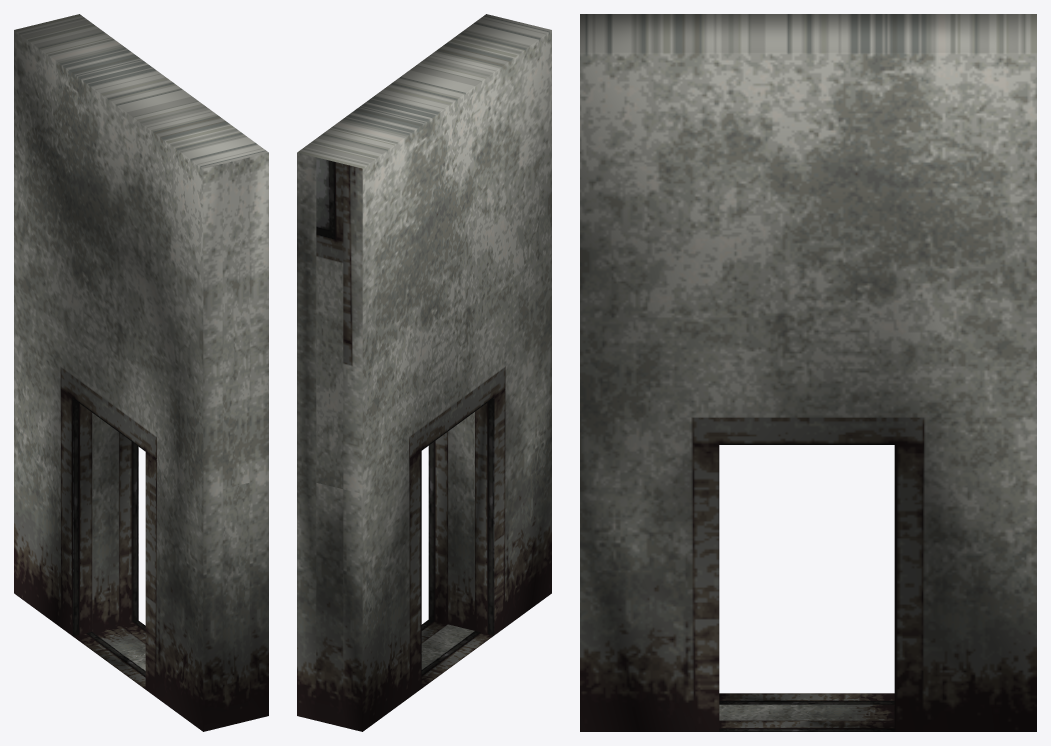
Rendered from SM_EC_ConcreteTunnel_DoorWay_2.fbx.
3 views of the same model, side by side, from view 1: azimuth 30°, elevation 25°; view 2: azimuth 150°, elevation 25°; view 3: azimuth 270°, elevation 25° (orthographic). The views are drawn at different scales.
Parts seen in each view (by area): view 1: SM_EC_ConcreteTunnel_DoorWay_2; view 2: SM_EC_ConcreteTunnel_DoorWay_2; view 3: SM_EC_ConcreteTunnel_DoorWay_2.
Part boxes in pixels (x1,y1,x2,y2): SM_EC_ConcreteTunnel_DoorWay_2: (14, 14, 268, 731); SM_EC_ConcreteTunnel_DoorWay_2: (297, 14, 551, 731); SM_EC_ConcreteTunnel_DoorWay_2: (580, 14, 1036, 731).
Bounding box in the file's own units: 0.6001 × 3 × 4.92.
